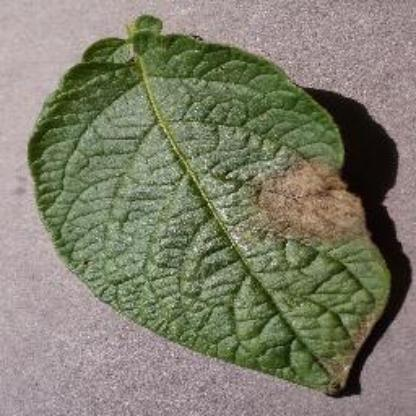Late-Blight: (24, 13, 404, 407)
